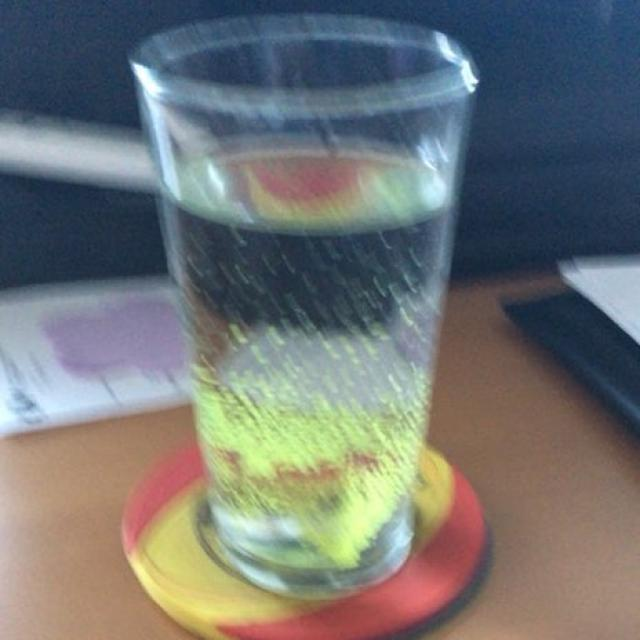water: (164, 142, 452, 560)
